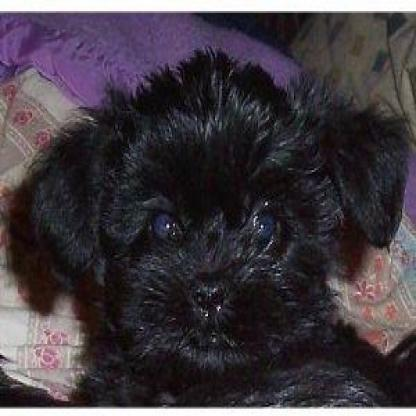affenpinscher: (0, 35, 413, 403)
